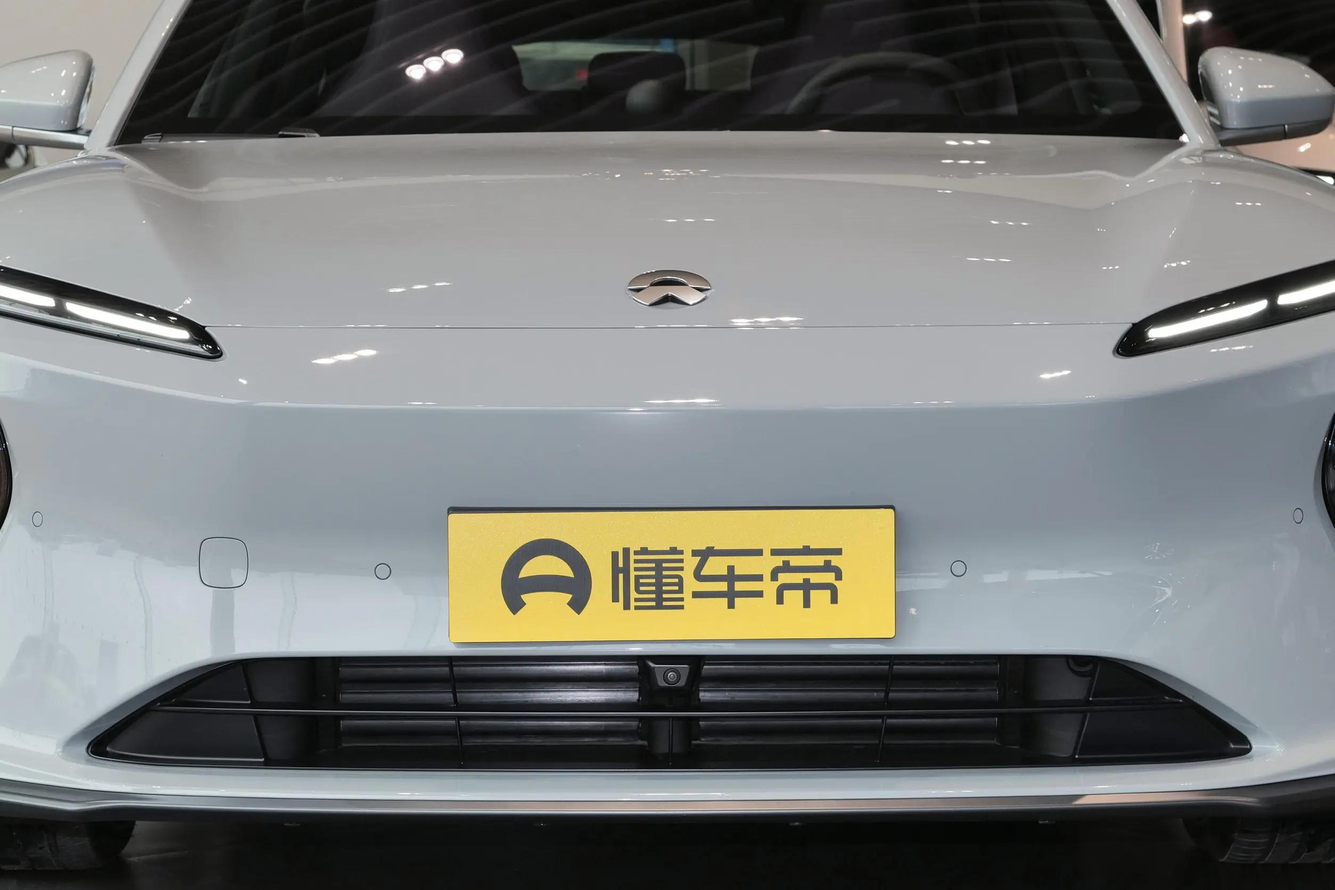NIO: (629, 267, 712, 308)
